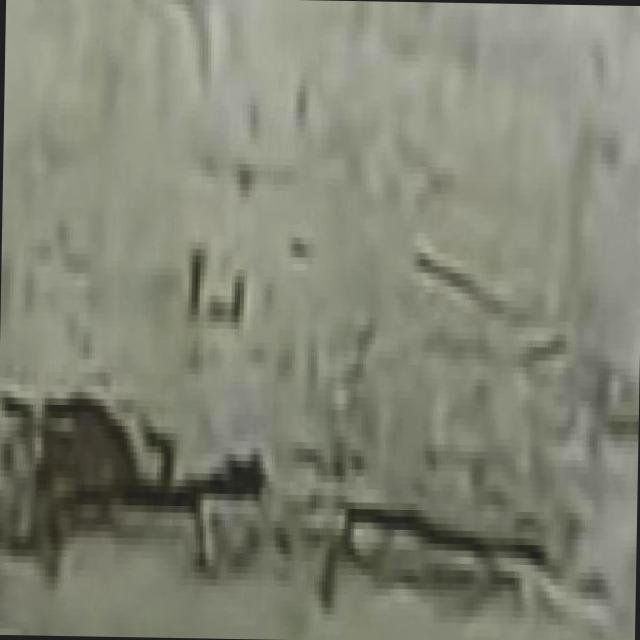crack: (320, 468, 551, 640)
